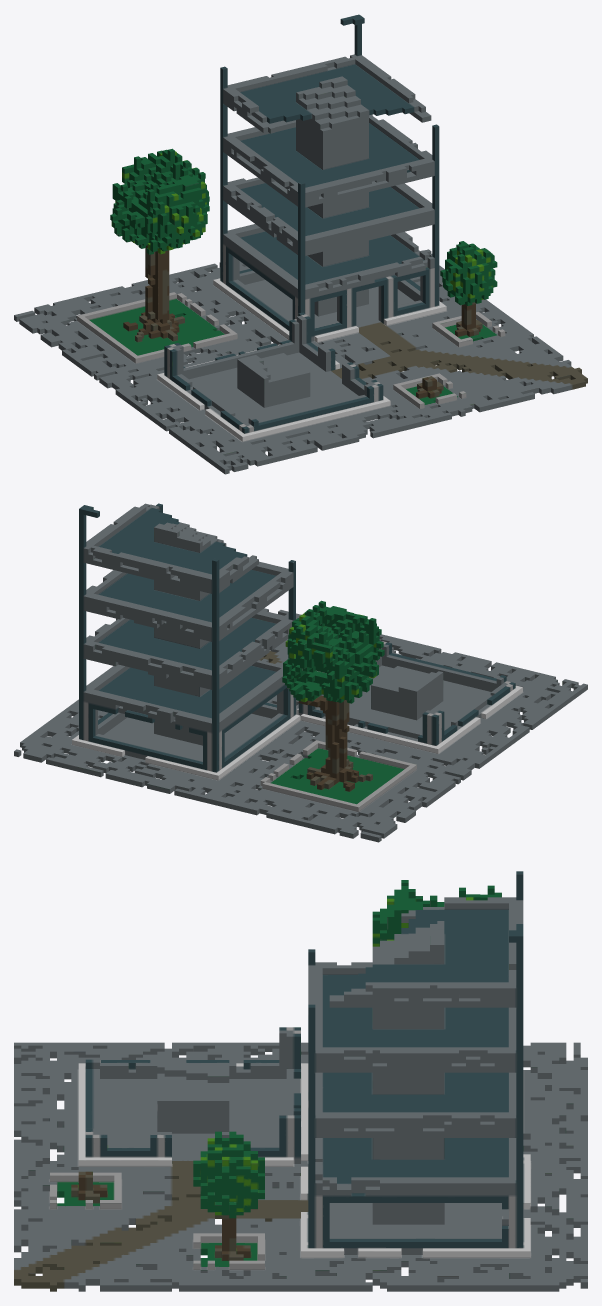
File: building_big_3_destroyed.glb
The picture shows the model from 3 angles, top to bottom: view 1: azimuth 30°, elevation 25°; view 2: azimuth 150°, elevation 25°; view 3: azimuth 270°, elevation 25°; orthographic projection. The views are drawn at different scales.
Visible parts, largest first — view 1: building_big_3_destroyed; view 2: building_big_3_destroyed; view 3: building_big_3_destroyed.
Boxes of the visible parts, x1,y1,x2,y2 form: building_big_3_destroyed: (14, 14, 587, 474); building_big_3_destroyed: (14, 503, 587, 842); building_big_3_destroyed: (14, 871, 587, 1291).
Bounding box in the file's own units: 8 × 5 × 8.
Materials: 1 (1 with a texture image).
